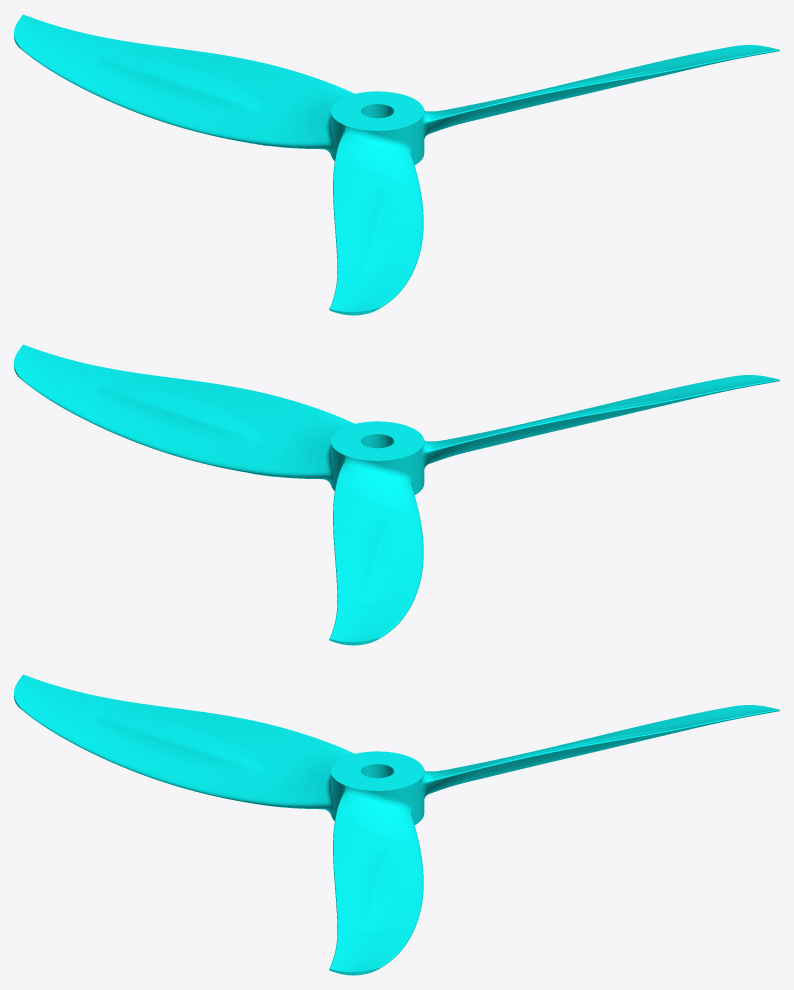
Rendered from prop-5040-tri_CW.glb.
3 renders of one model, top to bottom at view 1: azimuth 30°, elevation 25°; view 2: azimuth 150°, elevation 25°; view 3: azimuth 270°, elevation 25°, orthographic.
Parts seen in each view (by area): view 1: Component2; view 2: Component2; view 3: Component2.
Part boxes in pixels (x1,y1,x2,y2): Component2: (14, 14, 779, 315); Component2: (14, 344, 779, 645); Component2: (14, 674, 779, 975).
Bounding box in the file's own units: 0.1045 × 0.00733 × 0.1149.
